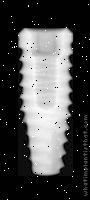BioHorizons: (18, 28, 73, 176)
